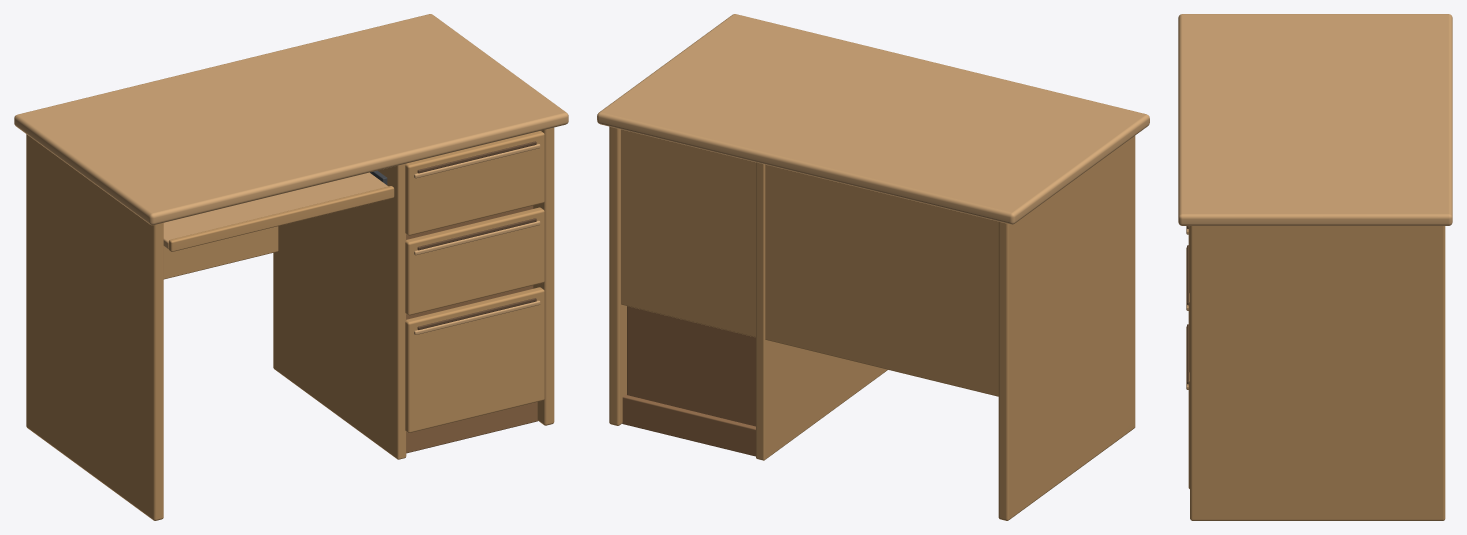
Rendered from college-desk.glb.
The picture shows the model from 3 angles, left to right: view 1: azimuth 30°, elevation 25°; view 2: azimuth 150°, elevation 25°; view 3: azimuth 270°, elevation 25°; orthographic projection.
Parts seen in each view (by area): view 1: desktop, left-side-panel, pedestal-divider, bottom-drawer-front, middle-drawer-front, top-drawer-front, keyboard-tray, right-side-panel, back-modesty-panel, keyboard-tray-front-edge, pedestal-bottom-plinth, pedestal-interior (+3 smaller); view 2: back-modesty-panel, desktop, left-side-panel, pedestal-interior, pedestal-divider, right-side-panel, pedestal-bottom-plinth; view 3: right-side-panel, desktop.
Boxes of the visible parts, box(x1,y1,x2,y2) form: desktop: box(14, 14, 568, 225); left-side-panel: box(26, 134, 163, 520); pedestal-divider: box(273, 163, 406, 459); bottom-drawer-front: box(405, 287, 544, 432); middle-drawer-front: box(405, 207, 544, 315); top-drawer-front: box(405, 131, 544, 235); keyboard-tray: box(163, 172, 388, 249); right-side-panel: box(533, 127, 554, 425); back-modesty-panel: box(163, 226, 278, 279); keyboard-tray-front-edge: box(168, 186, 394, 251); pedestal-bottom-plinth: box(406, 402, 537, 453); pedestal-interior: box(406, 205, 533, 319); back-modesty-panel: box(621, 129, 998, 396); desktop: box(597, 14, 1149, 224); left-side-panel: box(998, 136, 1135, 520); pedestal-interior: box(627, 306, 755, 426); pedestal-divider: box(756, 162, 887, 460); right-side-panel: box(609, 126, 626, 425); pedestal-bottom-plinth: box(622, 394, 755, 456); right-side-panel: box(1190, 226, 1445, 520); desktop: box(1178, 14, 1452, 225).
Bounding box in the file's own units: 1.07 × 0.762 × 0.6096.
